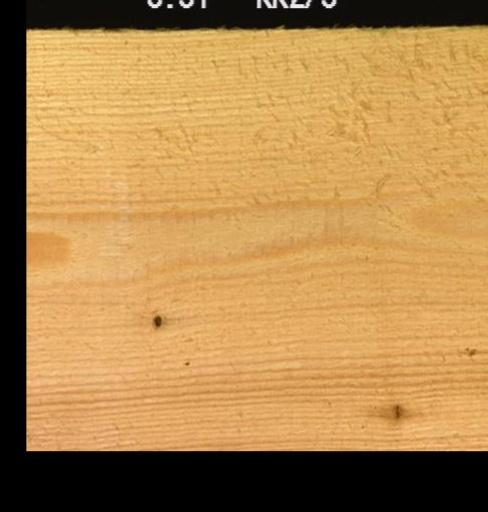dry_knot: (151, 311, 162, 329)
small_knot: (392, 401, 402, 421)
